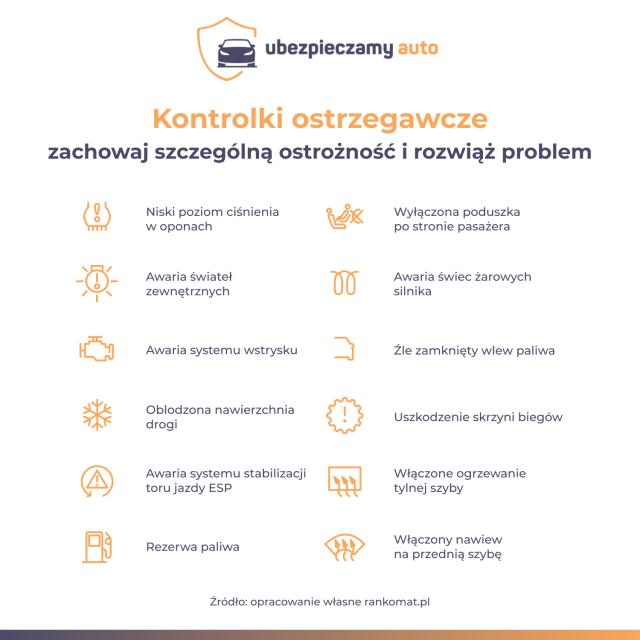kontrolka: (316, 520, 375, 568), (73, 454, 123, 506), (325, 453, 372, 502), (323, 390, 373, 436), (320, 196, 370, 240), (319, 326, 366, 369), (74, 196, 120, 238), (72, 328, 121, 366), (75, 262, 118, 305), (80, 527, 117, 569), (75, 397, 114, 435), (323, 262, 362, 300)
